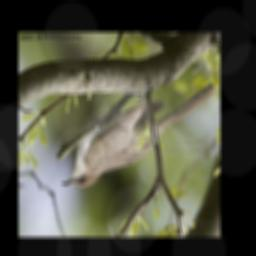Cuckoo: (63, 83, 218, 189)
